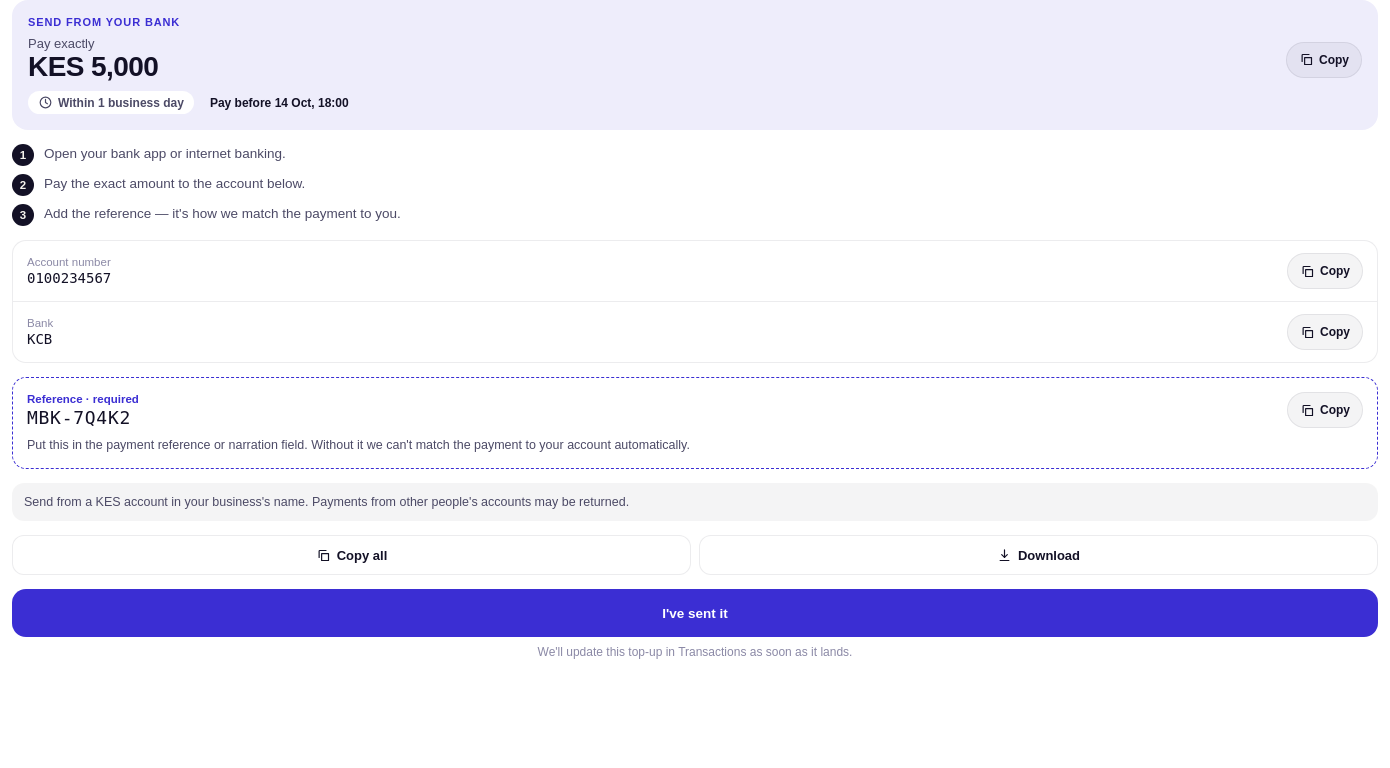
it: BankTransferInstructions › tells the user when copying fails instead of failing silently
Click the button with aria-label "Copy reference" at {"x": 1325, "y": 410}, box [1287, 392, 1363, 428]
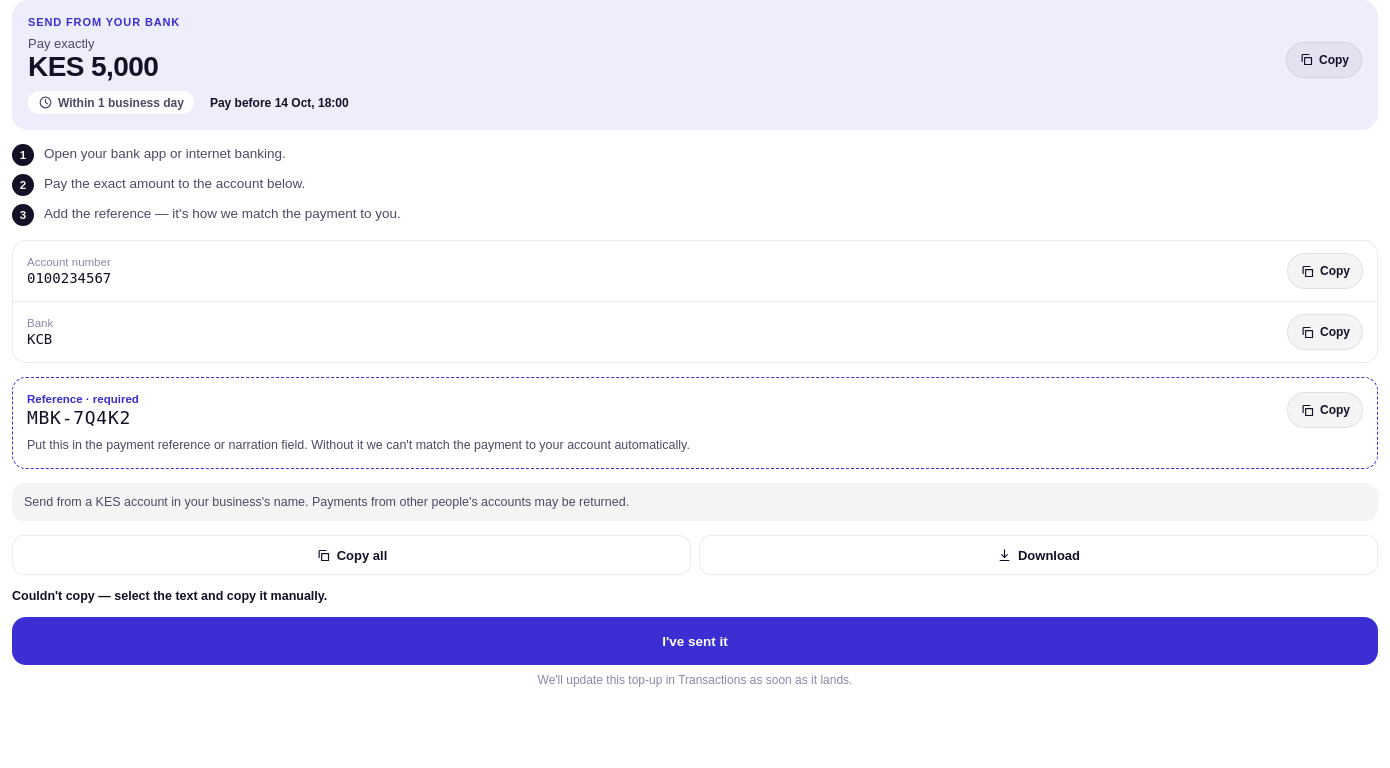
Now the message shows "copy it manually", box [12, 589, 327, 603]
